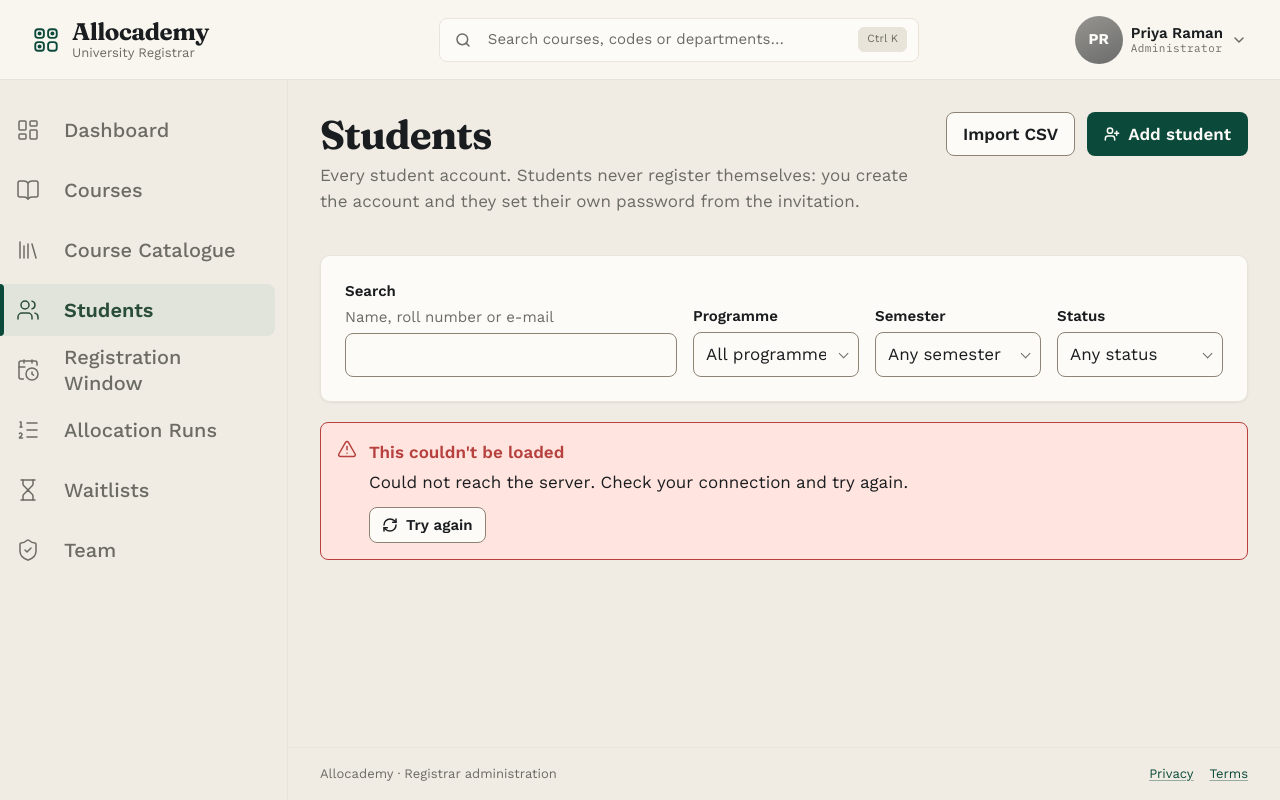
Test: AdminStudentsPage list › offers Retry when the list fails
Check: the heading "Students" is shown, box [320,110,492,159]
Check: the text "Could not reach the server" is shown, box [369,472,908,492]
Click the button "Try again": (427, 525) [369,507,486,543]
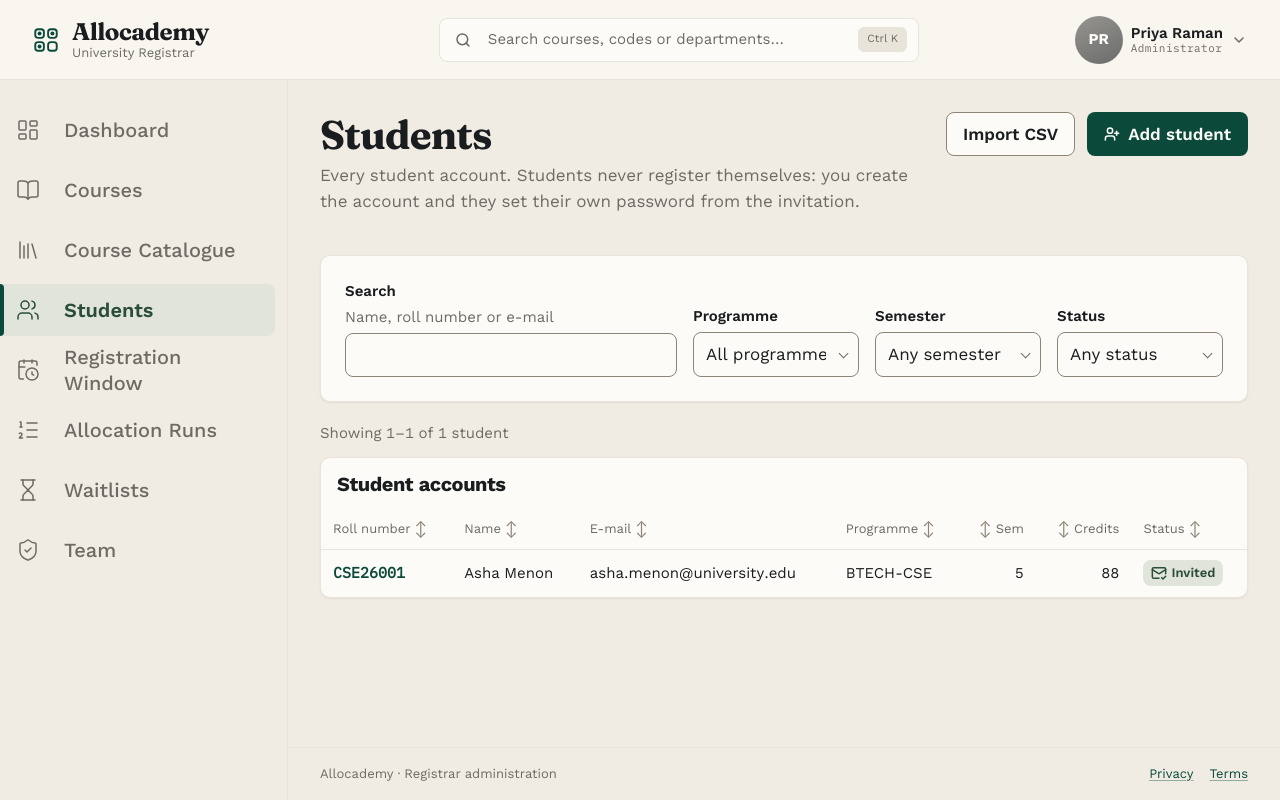
Check: the table is shown, box [321,458,1247,597]
